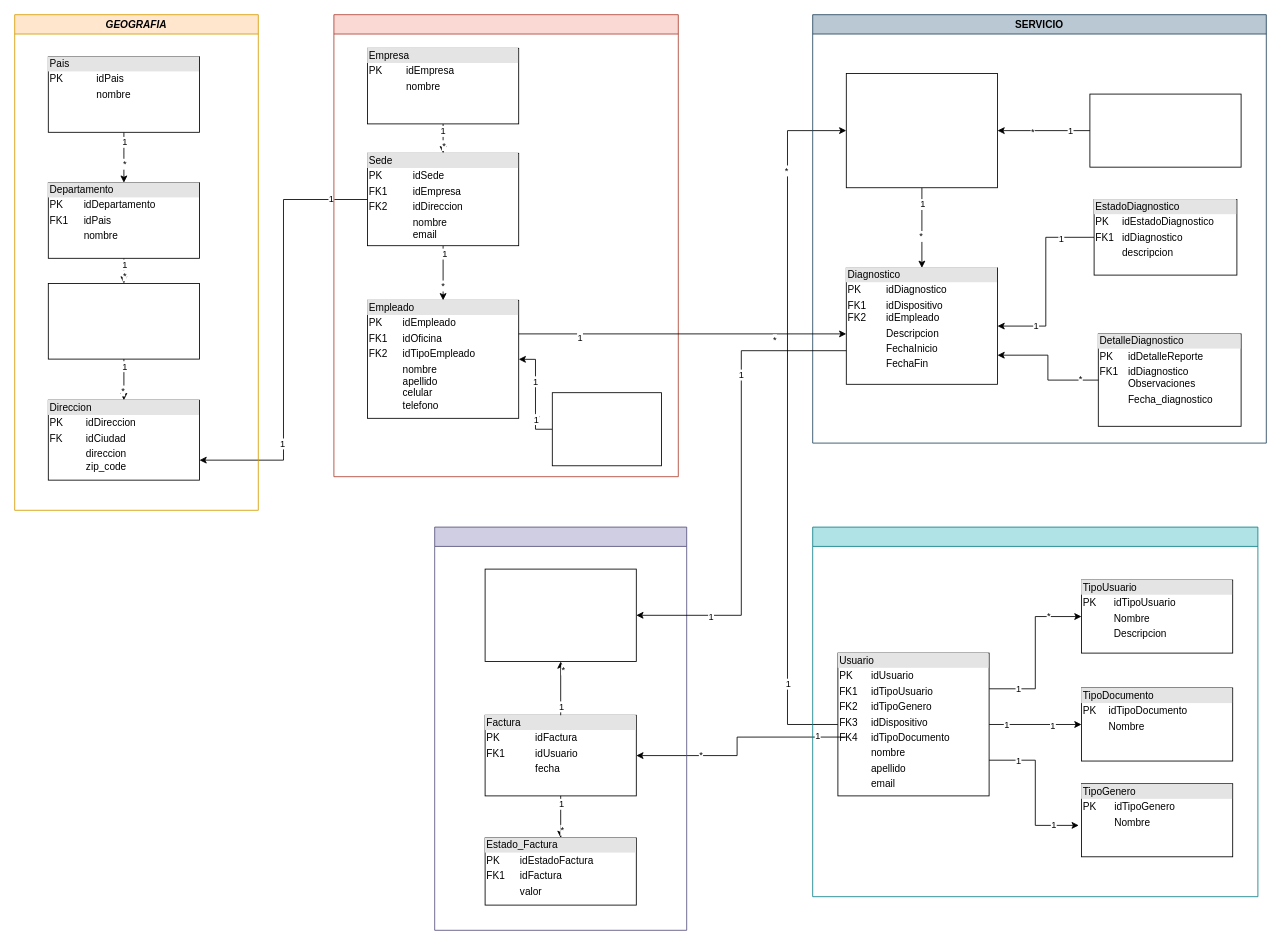
This 1281x945 diagram has some shape labels left out. The box of each missing label's shape, as (x1, y1, x2, y2) in pixels:
Ciudad PK idCiudad FK1 idDepartamento nombre: (47, 283, 200, 359)
Detalle_Factura PK idDetalleFactura FK1 idFactura FK2 idDiagnostico subtotal: (484, 568, 636, 662)
Dispositivo PK idDispositivo FK1 idUsuario marca modelo color: (845, 73, 998, 188)
ORGANIZACION: (333, 14, 678, 477)
TipoDispositivo PK idTipoDispositivo Nombre Descripcion: (1089, 93, 1241, 167)
TipoEmpleado PK idTipoEmpleado cargo descripcion: (551, 392, 662, 466)
TRANSACCION: (434, 526, 687, 930)
USUARIO: (812, 526, 1258, 897)
